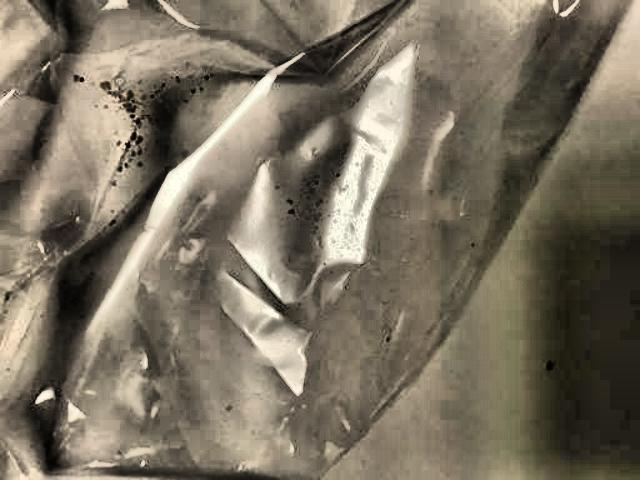Plastic: (8, 3, 598, 480)
